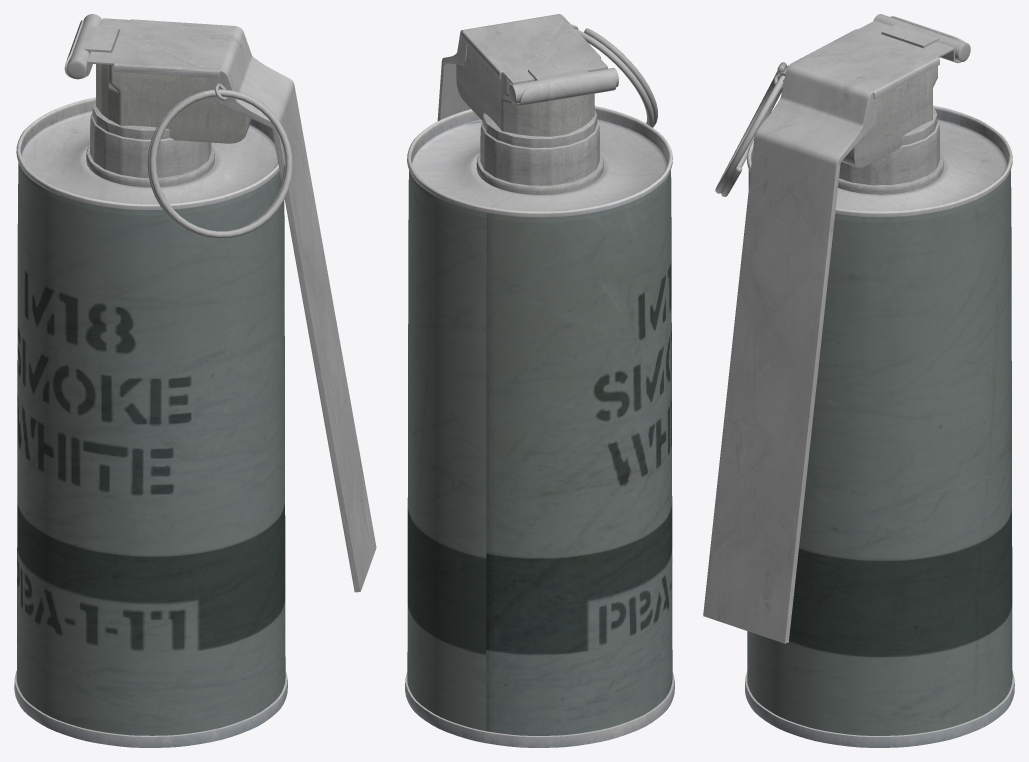
Rendered from GrenadeHighResSingle.fbx.
3 renders of one model, left to right at view 1: azimuth 30°, elevation 25°; view 2: azimuth 150°, elevation 25°; view 3: azimuth 270°, elevation 25°, orthographic.
Visible parts, largest first — view 1: M18_Smoke_Grenade:HighPoly_2048_texture_res; view 2: M18_Smoke_Grenade:HighPoly_2048_texture_res; view 3: M18_Smoke_Grenade:HighPoly_2048_texture_res.
Boxes of the visible parts, x1,y1,x2,y2 form: M18_Smoke_Grenade:HighPoly_2048_texture_res: (14,14,376,747); M18_Smoke_Grenade:HighPoly_2048_texture_res: (405,14,674,747); M18_Smoke_Grenade:HighPoly_2048_texture_res: (703,14,1014,747).
Size of the model in its own units: 6.96 by 14.63 by 6.44.
1 material, 1 textured.
